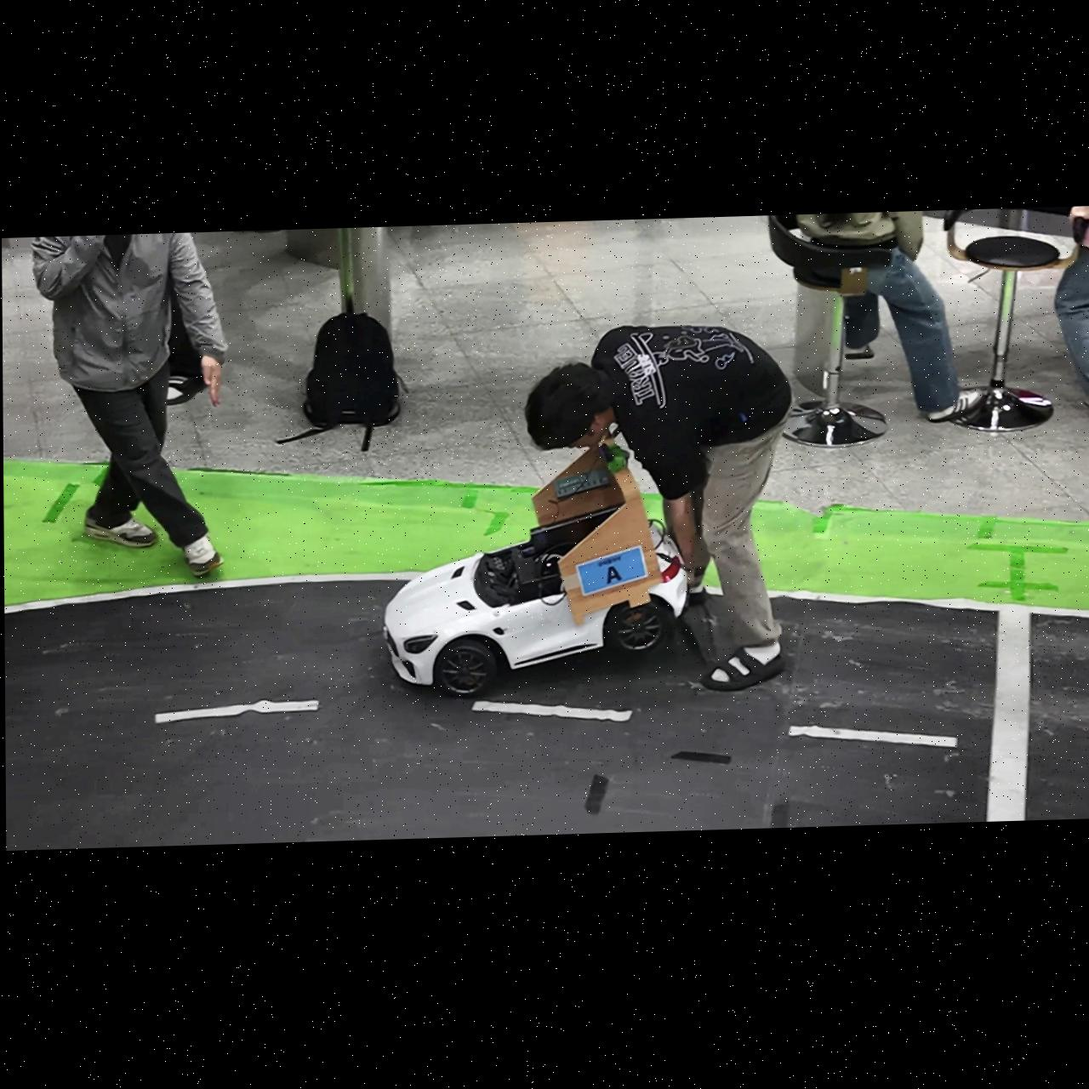broken_line: (788, 725, 957, 748), (155, 700, 318, 723), (472, 700, 633, 722)
